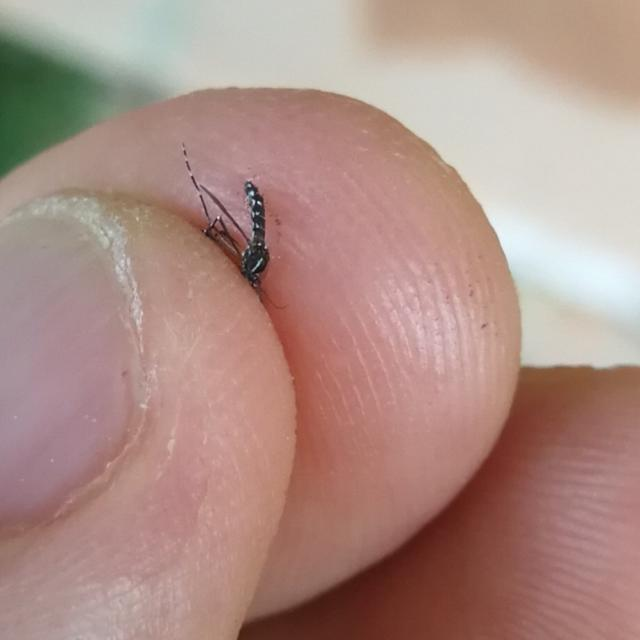albopictus: (170, 140, 292, 307)
